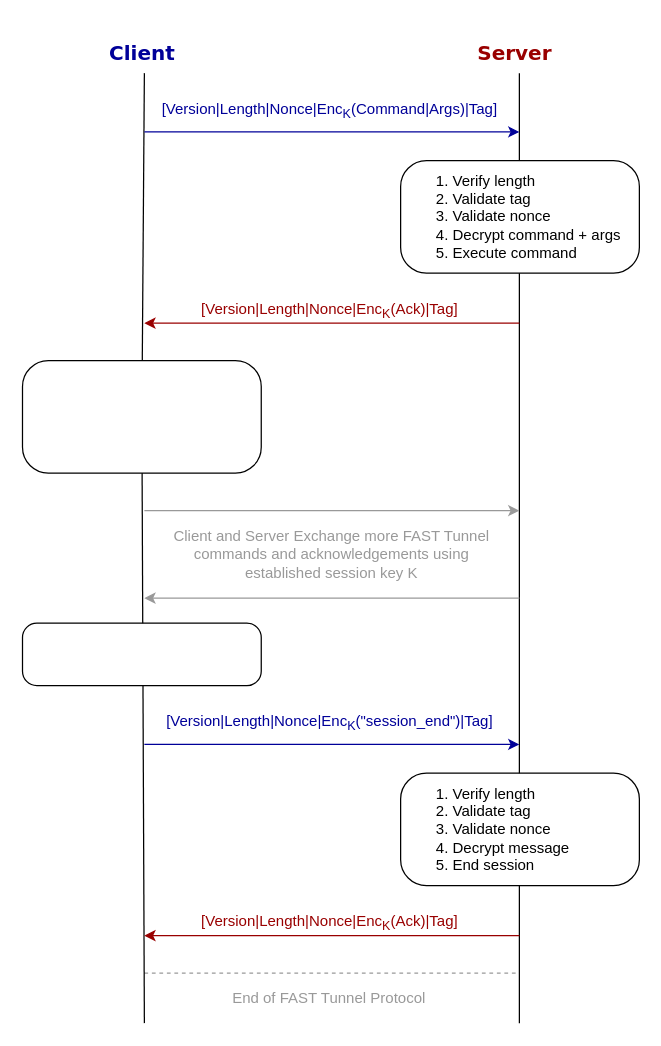
Image size: 661x1046. Some labels were removed from this diagram. The centre of each missing label's shape, as x and y in pixels:
User asks to log out and end session: (141,654)
Verify length Validate tag Validate nonce Decrypt Ack Verify Ack: (141,416)
